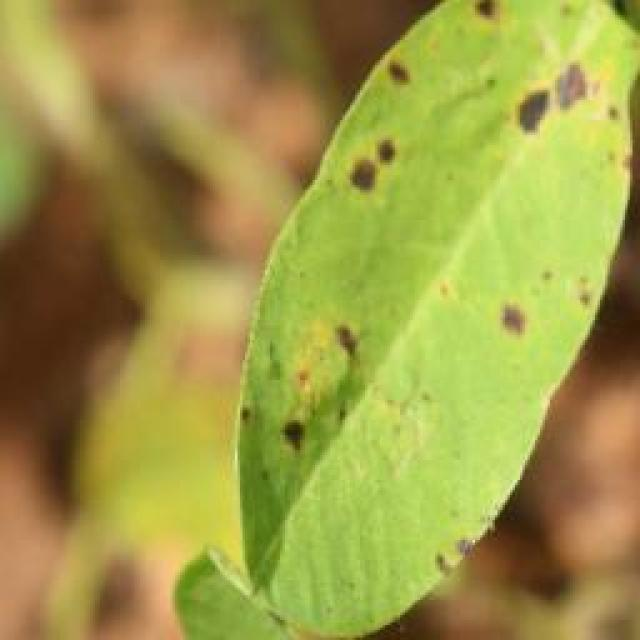Yellowish: (211, 0, 621, 594)
